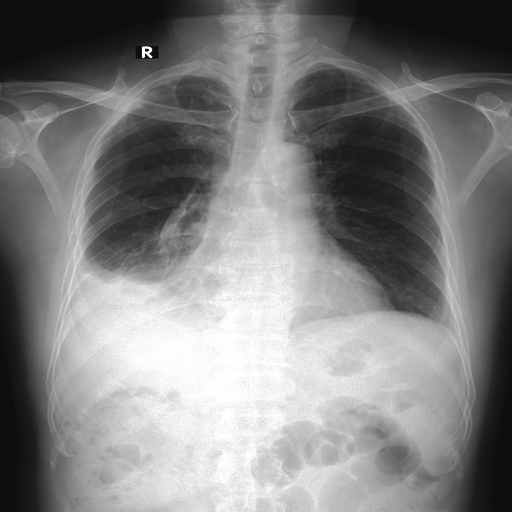Calcification: (132, 68, 214, 103), (341, 62, 390, 94)
Consolidation: (260, 142, 319, 194)
Nodule/Mass: (169, 259, 394, 326)
Pleural effusion: (68, 241, 206, 322)
Pleural thickening: (157, 177, 203, 249)
Pneumothorax: (118, 179, 202, 280)
